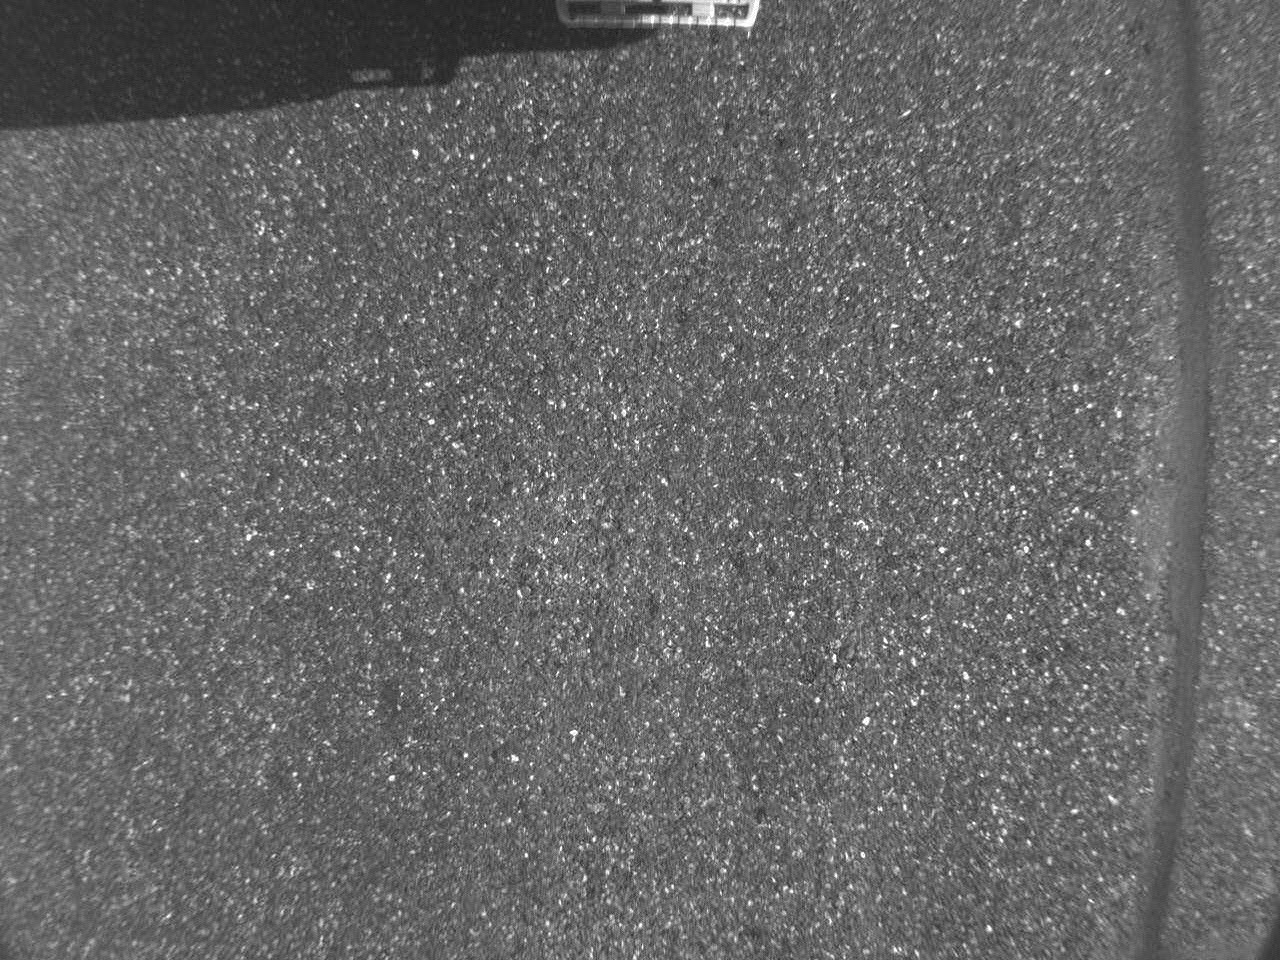sealed: (1127, 1, 1226, 952)
